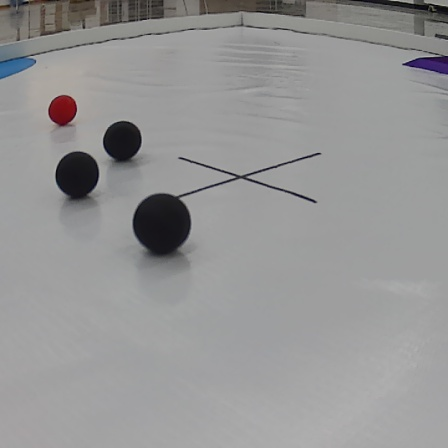black: (135, 191, 192, 251), (56, 144, 102, 199), (101, 116, 140, 163)
blue_base: (0, 57, 32, 86)
red: (42, 92, 78, 121)
